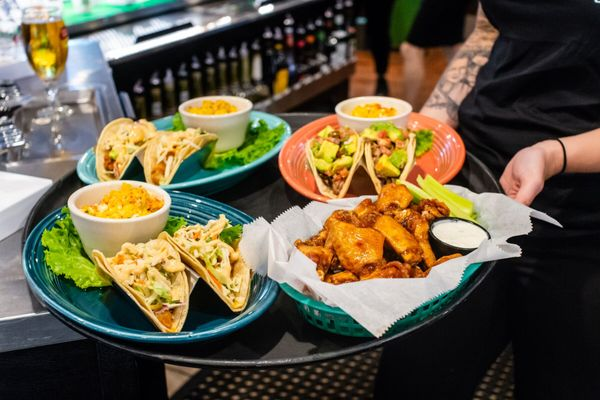pizza: (50, 85, 102, 159)
soup: (91, 236, 191, 333)
sushi: (67, 179, 171, 259), (178, 94, 254, 155), (335, 95, 413, 133)
